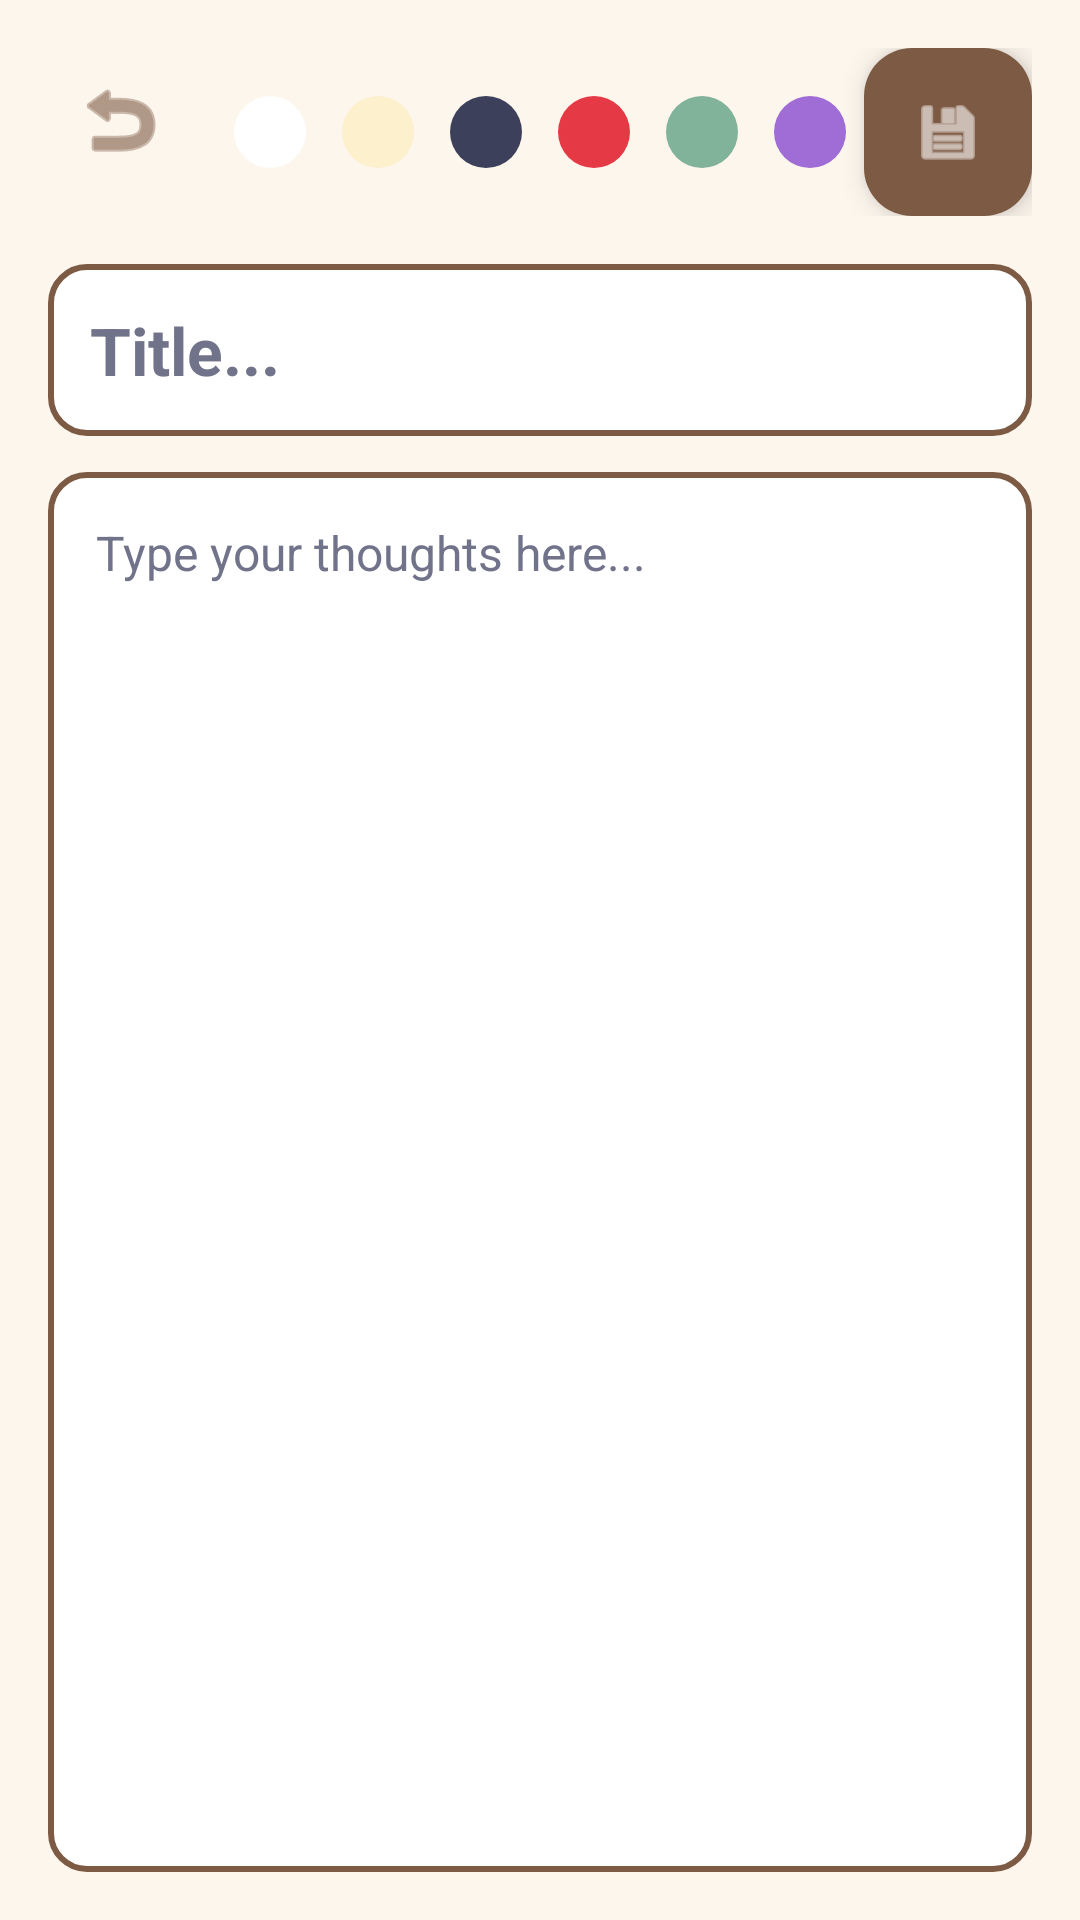

Named icons in this screenshot (1080px x 1920px) and their bounding boxes, box=[x1, y1, x2, y2]:
Go Back: box=[87, 89, 156, 152]
Save Entry: box=[864, 48, 1032, 216]
